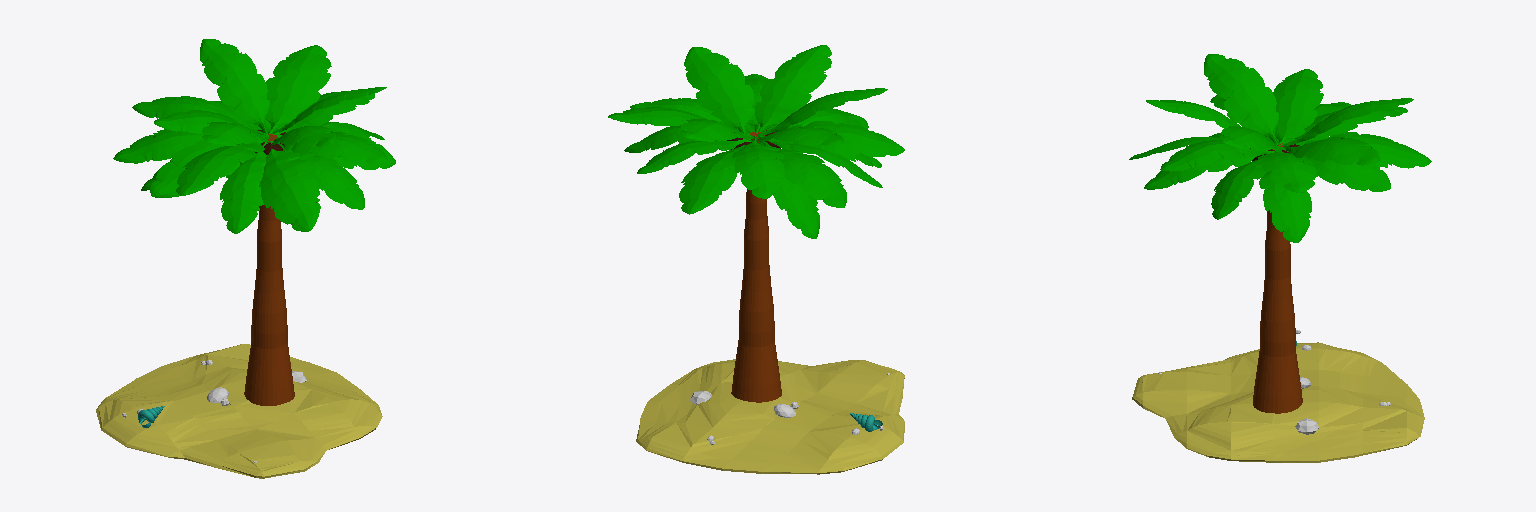
File: couple_beach.obj
3 renders of one model, left to right at view 1: azimuth 30°, elevation 25°; view 2: azimuth 150°, elevation 25°; view 3: azimuth 270°, elevation 25°, orthographic.
Parts seen in each view (by area): view 1: Mball, Cylinder, Plane_Plane.002, Plane_Plane.010, Plane_Plane.013, Plane_Plane.011, Plane_Plane.005, Plane_Plane.012, Plane_Plane.017, Plane_Plane.014, Plane_Plane.003, Plane_Plane.004 (+6 smaller); view 2: Mball, Cylinder, Plane_Plane.000, Plane_Plane.016, Plane_Plane.015, Plane_Plane.017, Plane_Plane.004, Plane_Plane.005, Plane_Plane.006, Plane_Plane.007, Plane_Plane.019, Plane_Plane.013 (+6 smaller); view 3: Mball, Cylinder, Plane_Plane.019, Plane_Plane.020, Plane_Plane.018, Plane_Plane.013, Plane_Plane.008, Plane_Plane.007, Plane_Plane.009, Plane_Plane.014, Plane_Plane.015, Plane_Plane.002 (+4 smaller).
Boxes of the visible parts, box(x1,y1,x2,y2) form: Mball: box(96, 344, 382, 478); Cylinder: box(244, 134, 294, 405); Plane_Plane.002: box(200, 39, 269, 134); Plane_Plane.010: box(259, 141, 320, 231); Plane_Plane.013: box(266, 45, 331, 133); Plane_Plane.011: box(220, 142, 267, 233); Plane_Plane.005: box(176, 136, 268, 195); Plane_Plane.012: box(277, 142, 364, 209); Plane_Plane.017: box(113, 129, 203, 163); Plane_Plane.014: box(275, 132, 387, 163); Plane_Plane.003: box(150, 140, 245, 197); Plane_Plane.004: box(132, 96, 268, 135); Mball: box(636, 359, 904, 474); Cylinder: box(731, 132, 781, 402); Plane_Plane.000: box(684, 47, 754, 133); Plane_Plane.016: box(755, 45, 831, 132); Plane_Plane.015: box(679, 141, 750, 214); Plane_Plane.017: box(762, 141, 846, 207); Plane_Plane.004: box(732, 136, 784, 198); Plane_Plane.005: box(757, 121, 904, 156); Plane_Plane.006: box(759, 142, 819, 238); Plane_Plane.007: box(637, 139, 748, 173); Plane_Plane.019: box(758, 88, 887, 135); Plane_Plane.013: box(608, 107, 750, 139); Mball: box(1132, 342, 1424, 462); Cylinder: box(1253, 143, 1302, 413); Plane_Plane.019: box(1204, 54, 1278, 144); Plane_Plane.020: box(1273, 69, 1323, 143); Plane_Plane.018: box(1259, 151, 1311, 242); Plane_Plane.013: box(1284, 137, 1379, 165); Plane_Plane.008: box(1211, 151, 1274, 219); Plane_Plane.007: box(1288, 151, 1390, 191); Plane_Plane.009: box(1258, 152, 1317, 192); Plane_Plane.014: box(1160, 140, 1271, 171); Plane_Plane.015: box(1304, 132, 1431, 168); Plane_Plane.002: box(1283, 98, 1413, 145).
Bounding box in the file's own units: 7.6 × 8.85 × 7.37.